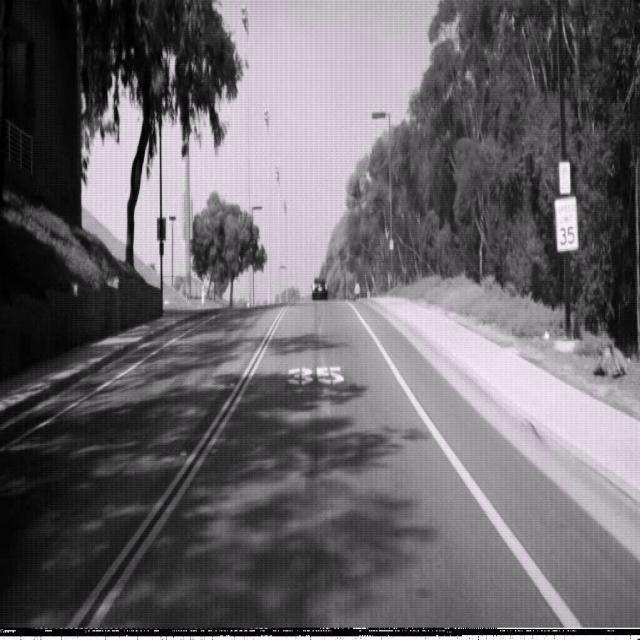speedLimit35: (554, 194, 578, 252)
